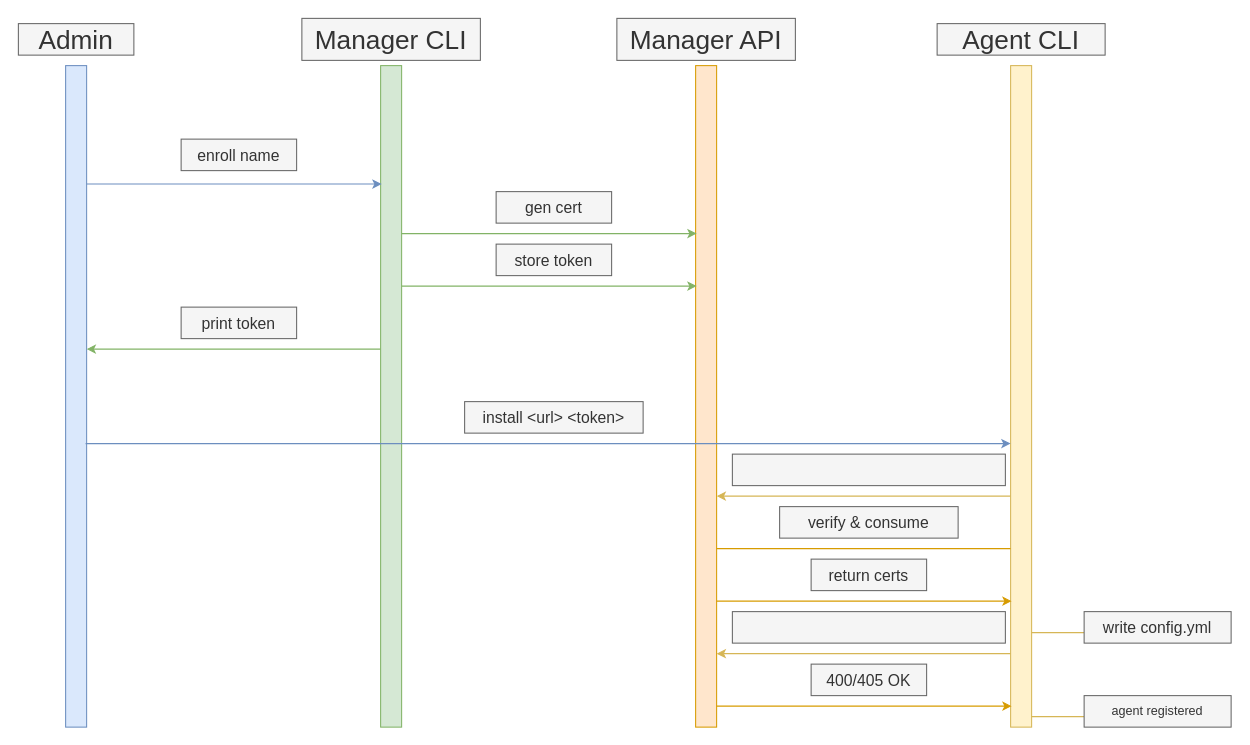
Some shapes in this 1250 by 745 pixel diagram are drawn without their labels. The centre of each missing label's shape, as x and y in pixels:
"POST /api/enroll (One time Token)" belongs at [868,469].
"POST /api/ingest (mTLS test)" belongs at [868,627].
